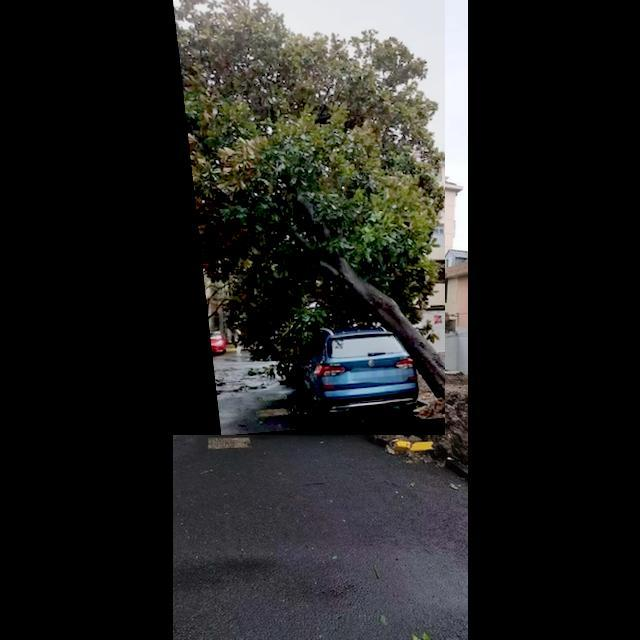fallen_tree: (172, 0, 446, 436)
